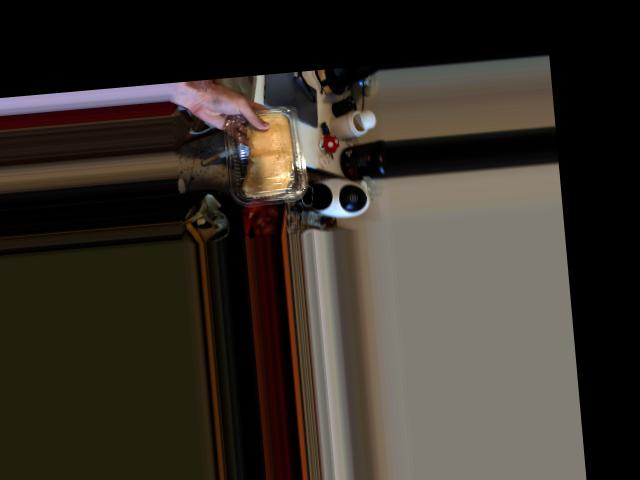cheese: (218, 107, 316, 200)
